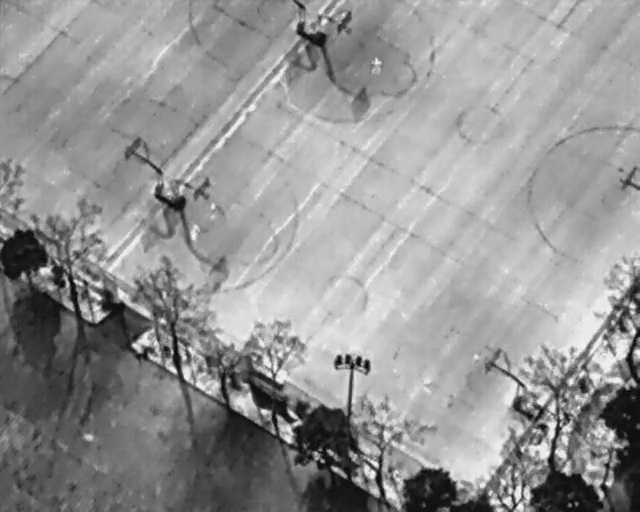Person: (369, 52, 382, 77), (190, 221, 199, 243), (208, 201, 217, 222)
